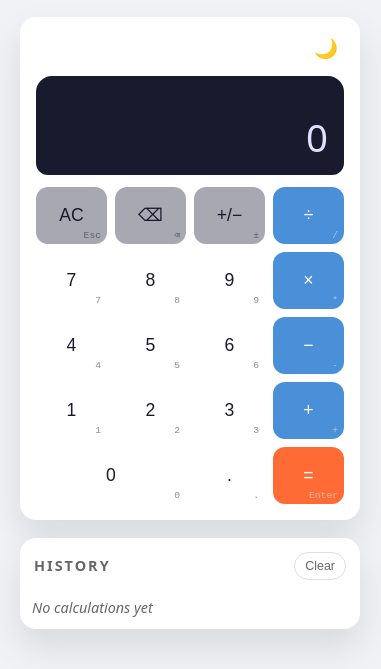
Scenario: App › evaluates keyboard Enter after an operation
The image size is (381, 669).
Click the button "5 5": (150, 345) [115,317,186,374]
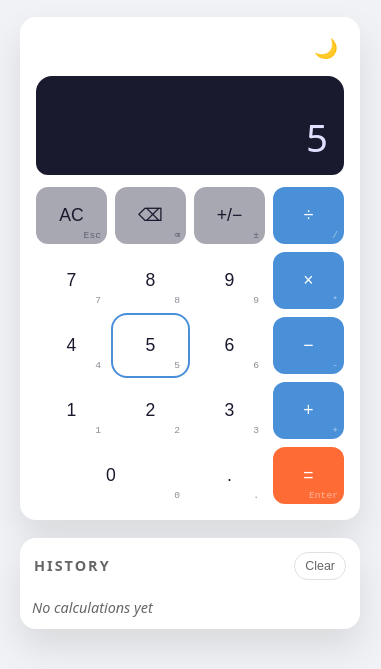
Click the button "+ +": (308, 410) [273,382,344,439]
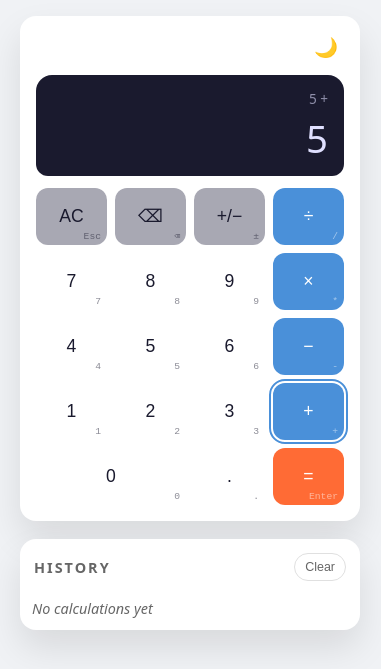
Click the button "3 3": (230, 412) [194,383,265,440]
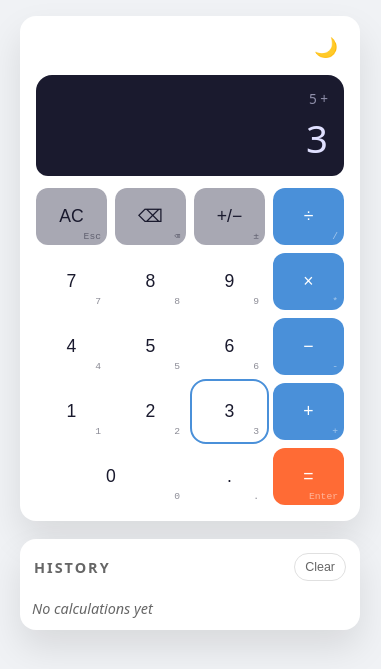
Press Enter
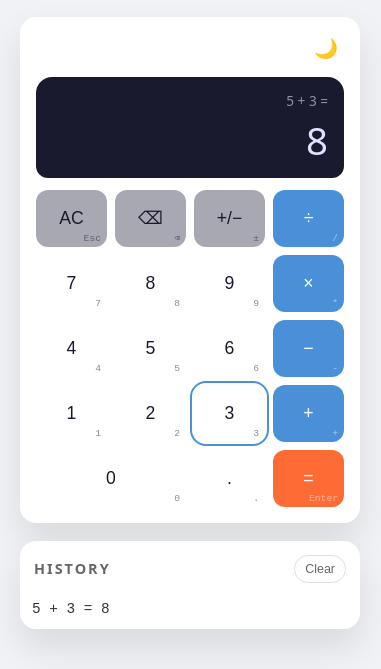
Expected: the 1st text "8" is shown, [306,114,328,166]
